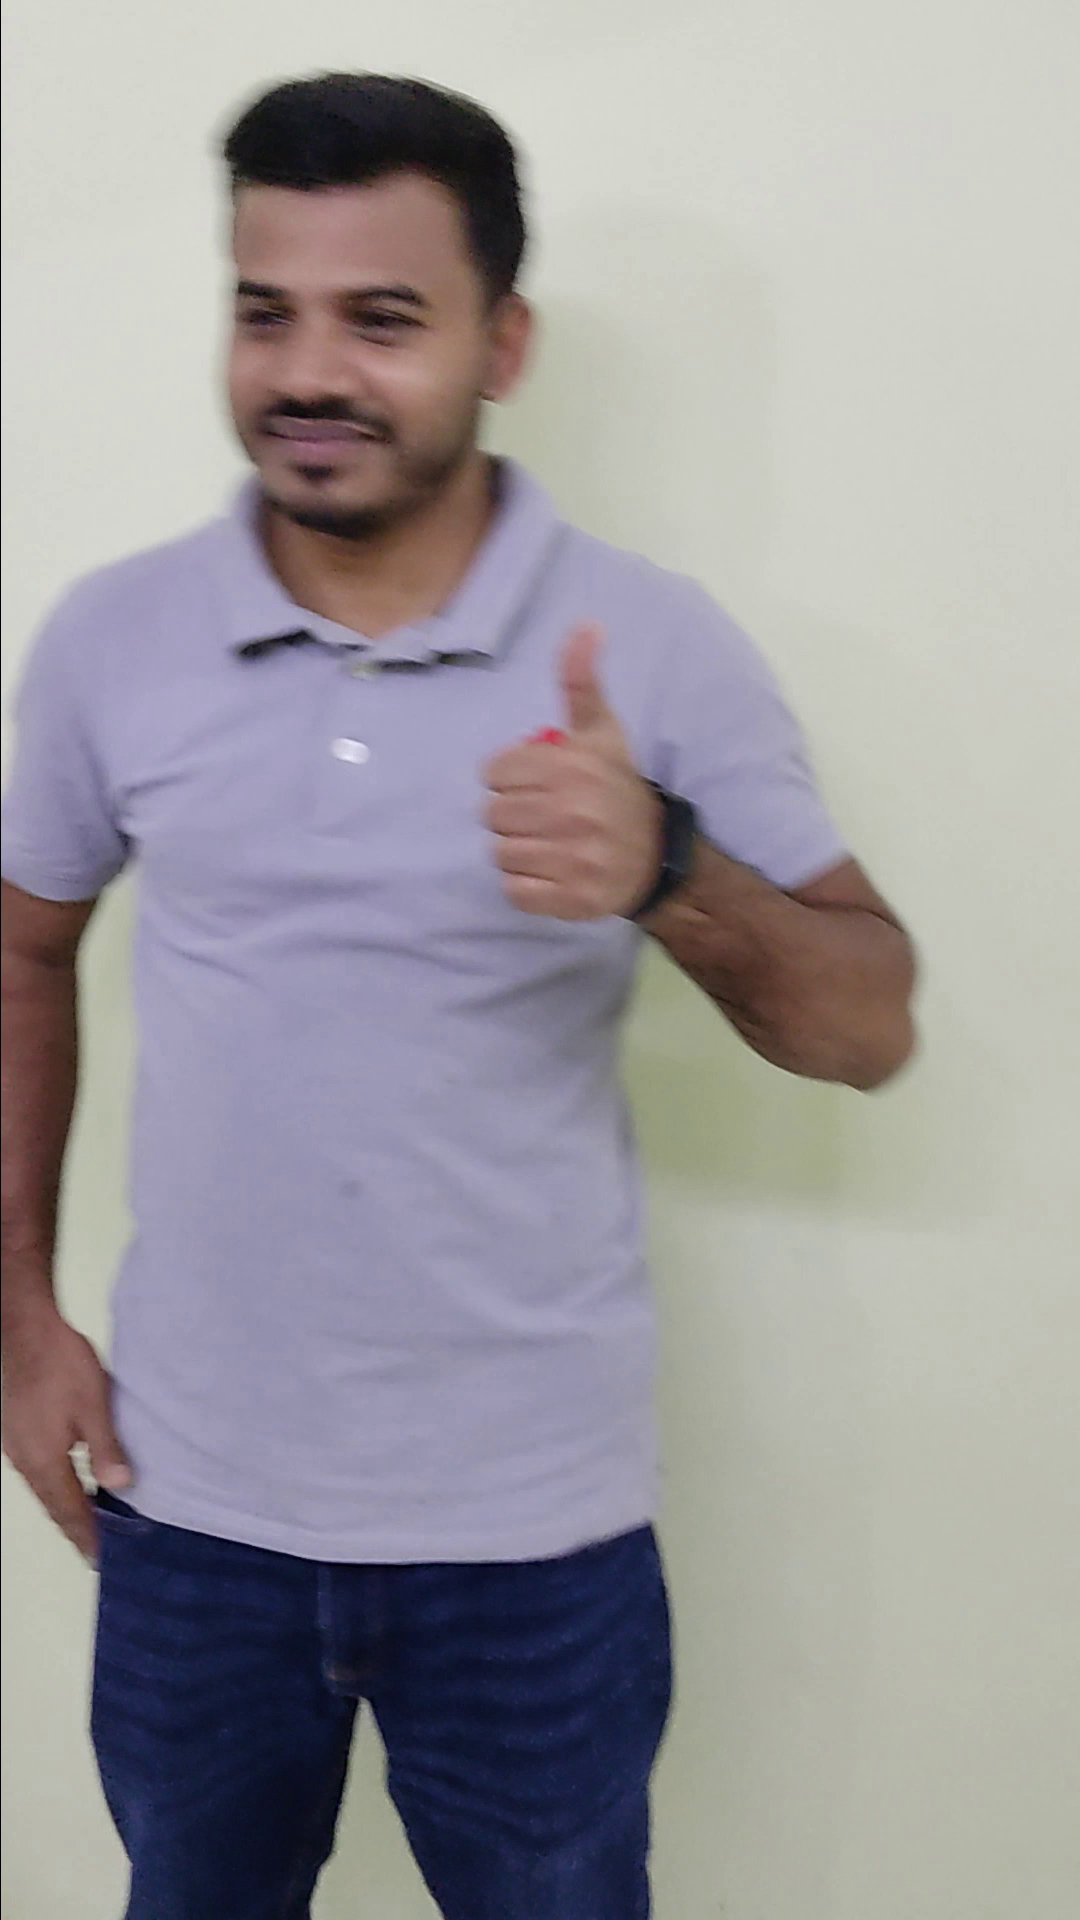Like: (469, 608, 698, 945)
None: (4, 1309, 149, 1582)
